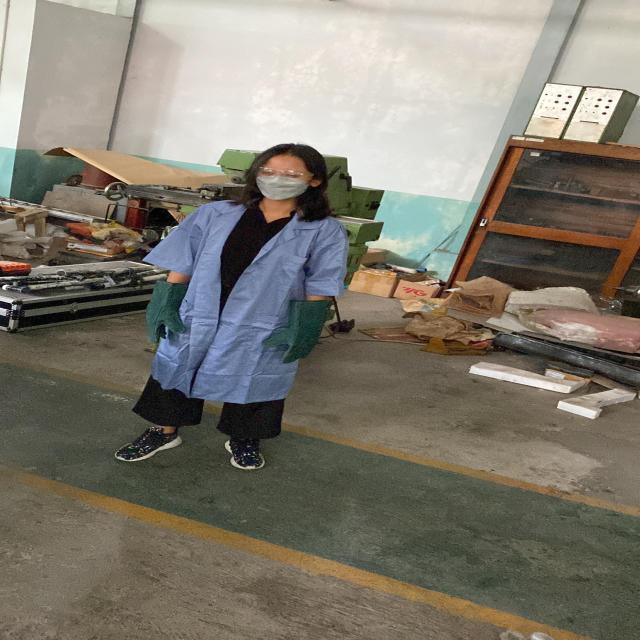glasses: (254, 164, 316, 182)
